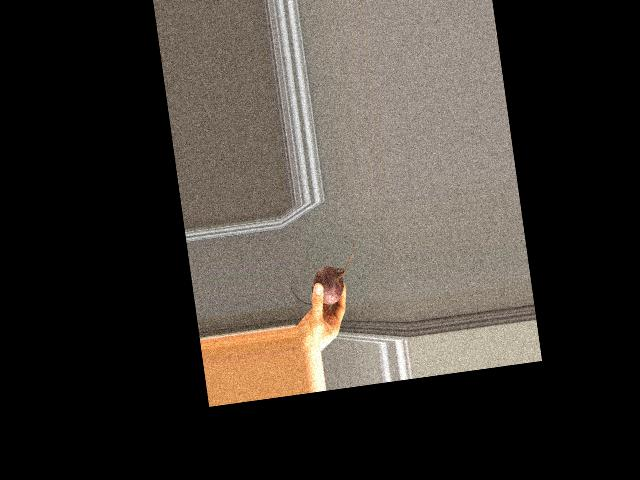beet: (285, 238, 361, 308)
